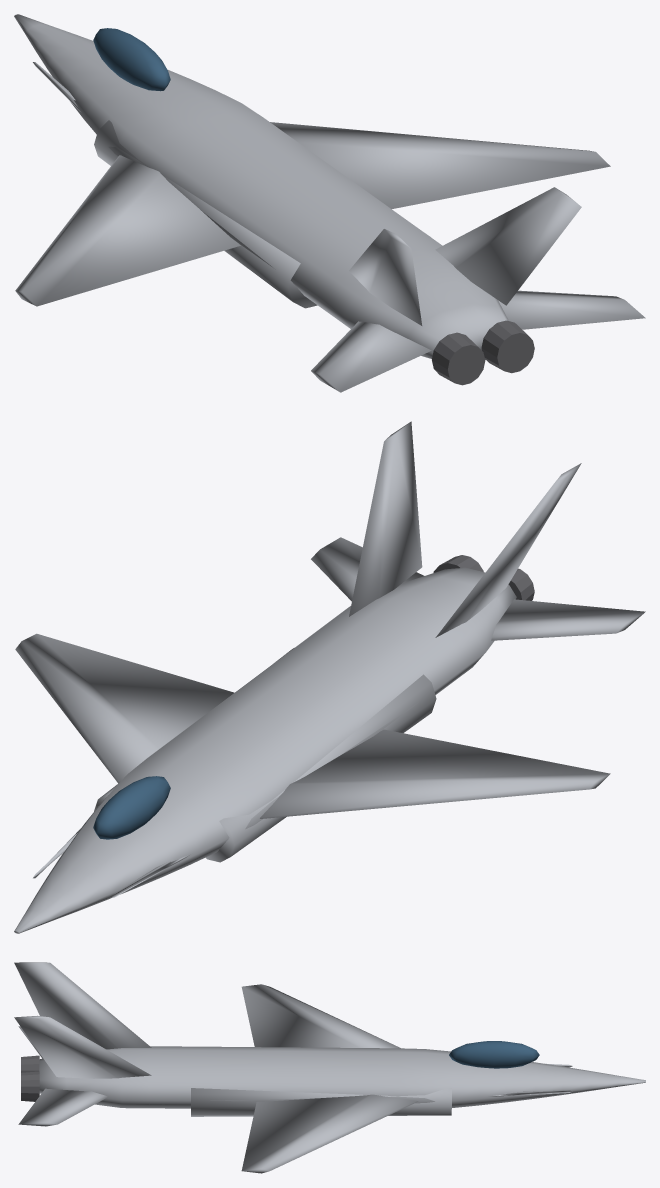
The picture shows the model from 3 angles, top to bottom: view 1: azimuth 30°, elevation 25°; view 2: azimuth 150°, elevation 25°; view 3: azimuth 270°, elevation 25°; orthographic projection. The views are drawn at different scales.
Visible parts, largest first — view 1: Body, Detail, Canopy; view 2: Body, Canopy, Detail; view 3: Body, Canopy, Detail.
Boxes of the visible parts, x1=… form: Body: x1=14, y1=14, x2=645, y2=392; Detail: x1=432, y1=320, x2=534, y2=385; Canopy: x1=93, y1=28, x2=170, y2=91; Body: x1=14, y1=421, x2=645, y2=933; Canopy: x1=93, y1=776, x2=170, y2=839; Detail: x1=433, y1=555, x2=534, y2=600; Body: x1=14, y1=962, x2=645, y2=1173; Canopy: x1=449, y1=1041, x2=539, y2=1068; Detail: x1=21, y1=1055, x2=39, y2=1101.
Size of the model in its own units: 1360 by 379 by 1969.
